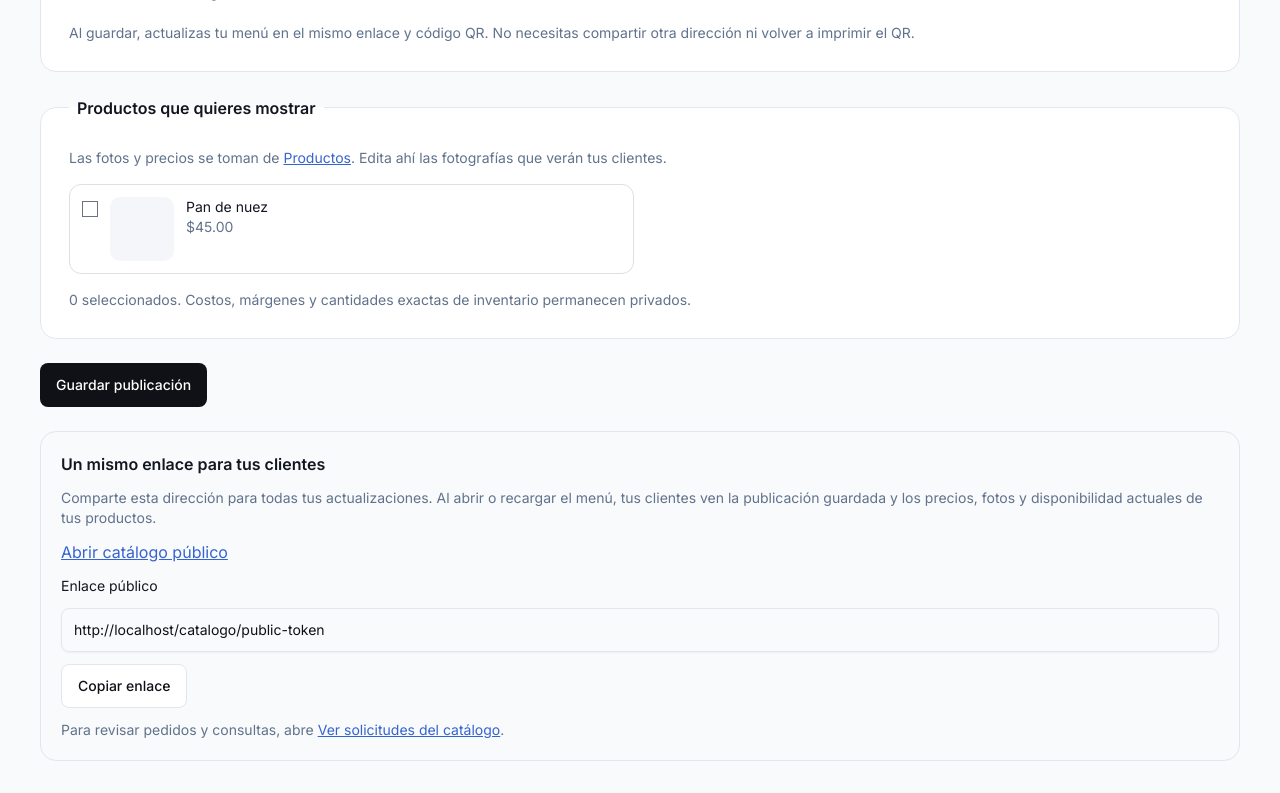
Test: selects the shareable link for manual copying when clipboard access is denied
(page scrolled)
Click the button "Copiar enlace" at x=124, y=686, box [61,664,187,708]
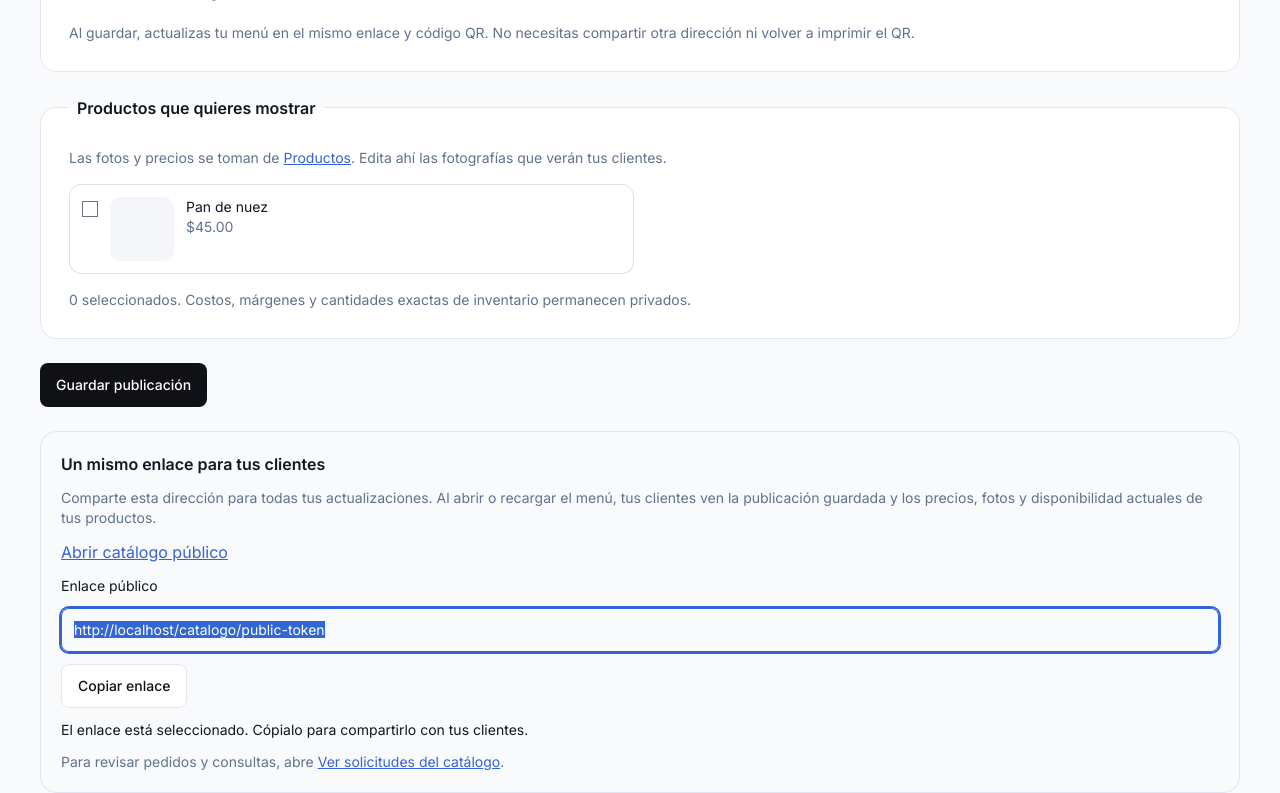
Check: the text "El enlace está seleccionado. Cópialo para compartirlo con tus clientes." is shown, box [61,721,528,738]
